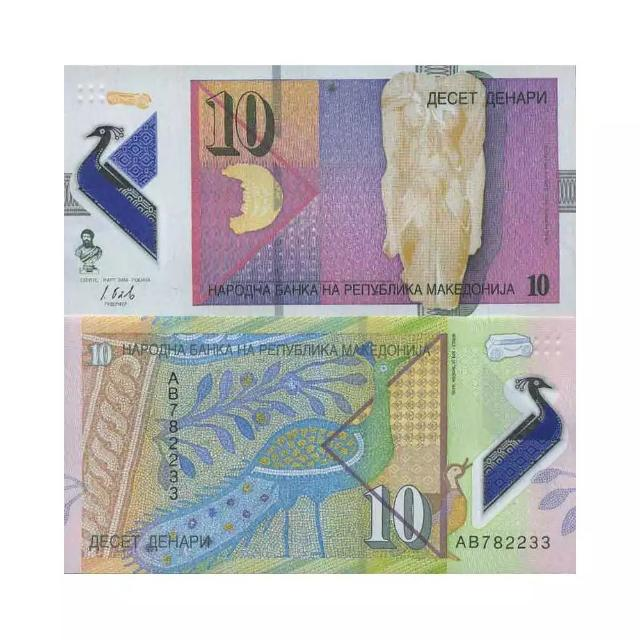note: (64, 56, 584, 328), (68, 315, 568, 579)
